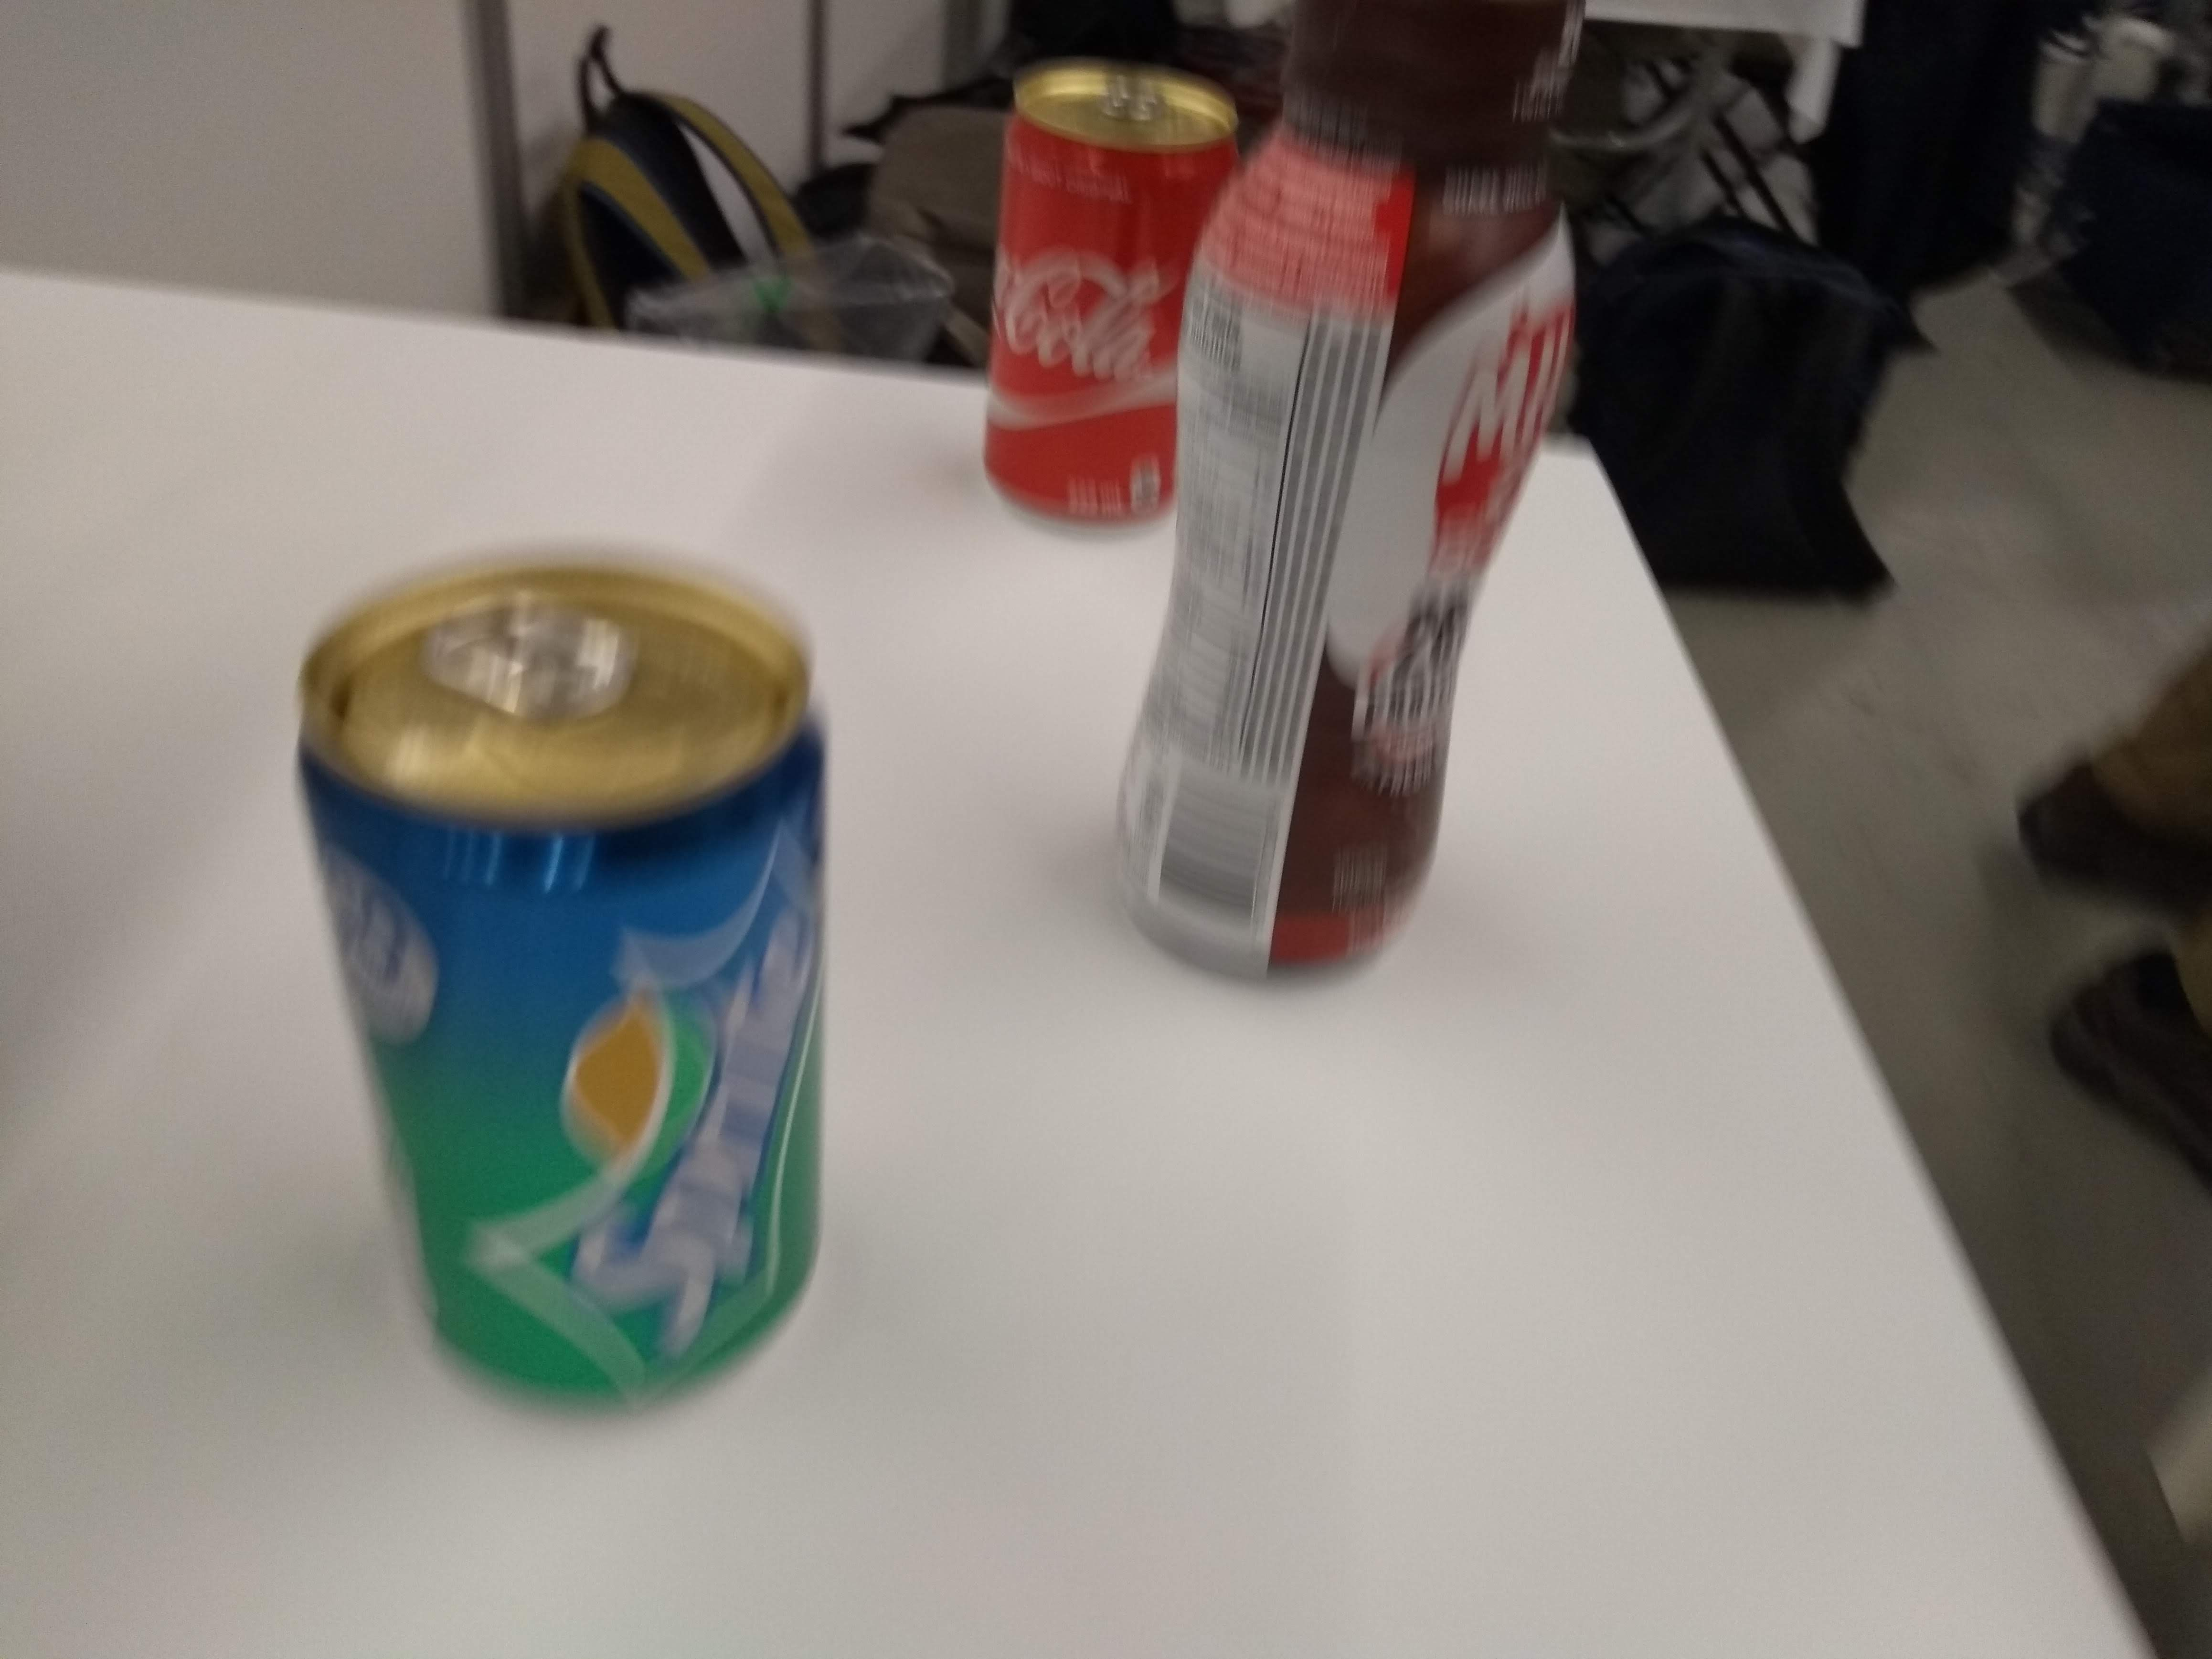chocolate_drink: (1104, 0, 1609, 990)
coke: (970, 47, 1251, 530)
sprite: (273, 523, 836, 1432)
